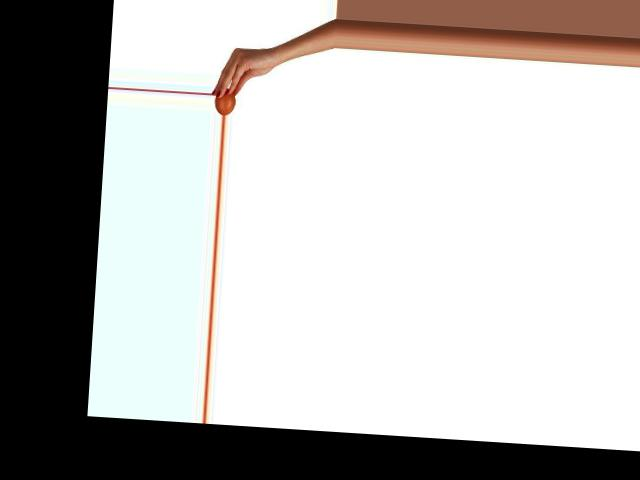egg: (214, 88, 236, 115)
